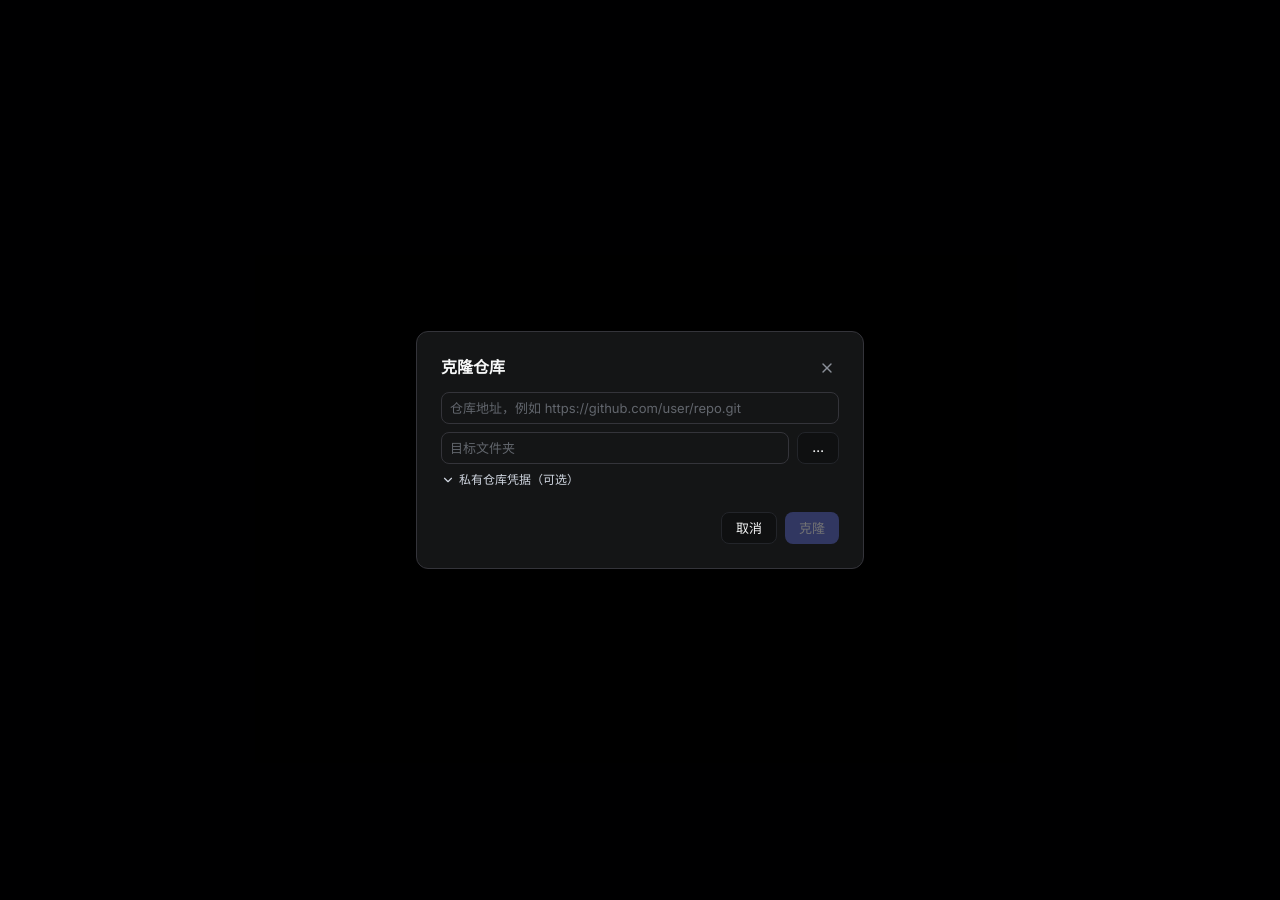
Test case: CloneDialog failure surfacing (rc.2 真人反馈) › shows the failure reason inline in the dialog, not just 克隆失败
Type "http://example.com/demo.git" into the field with test id "clone-url-input" at [640, 408], box left=441, top=392, right=839, bottom=424
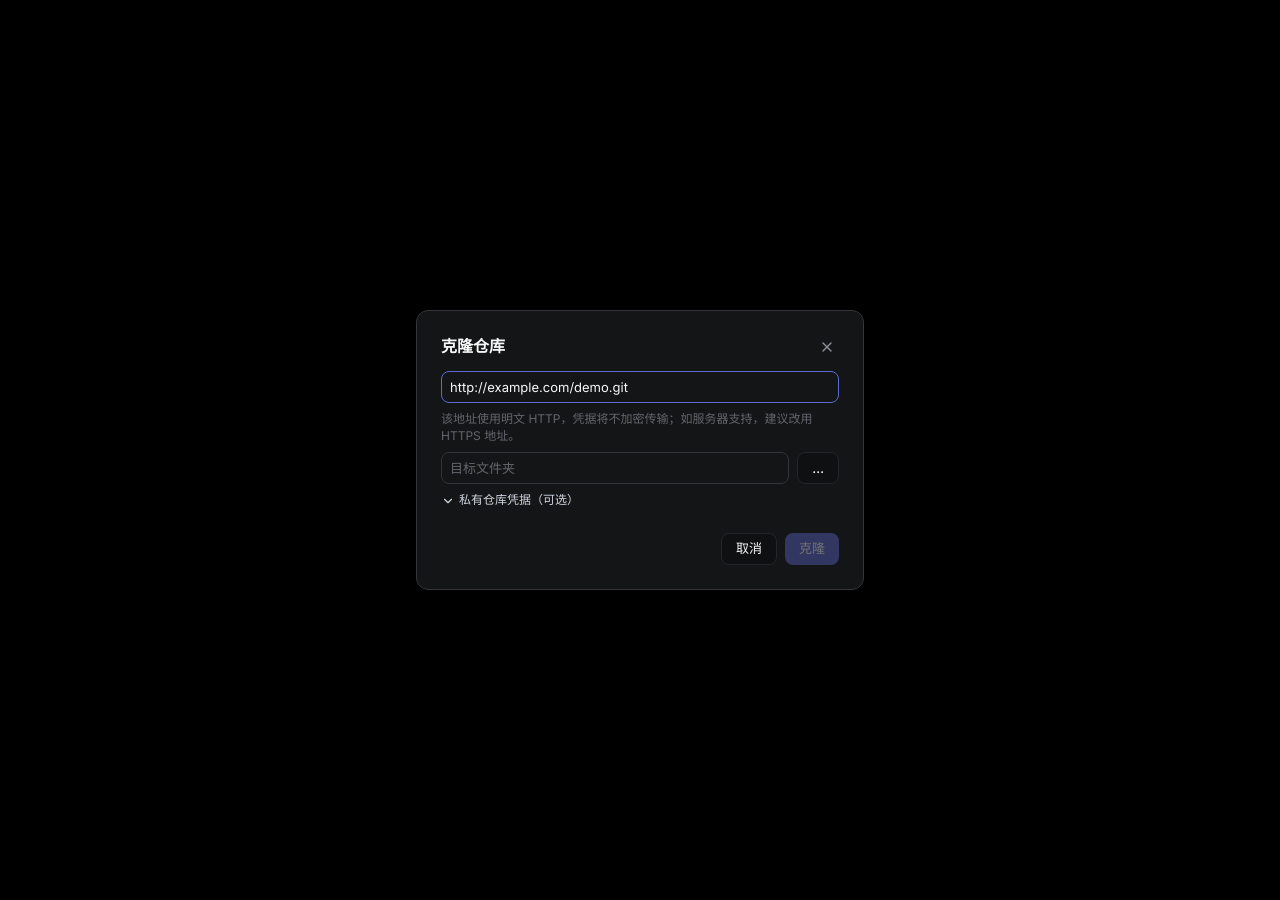
Type "C:/tmp/demo" into the field with test id "clone-path-input" at [615, 468], box left=441, top=452, right=789, bottom=484
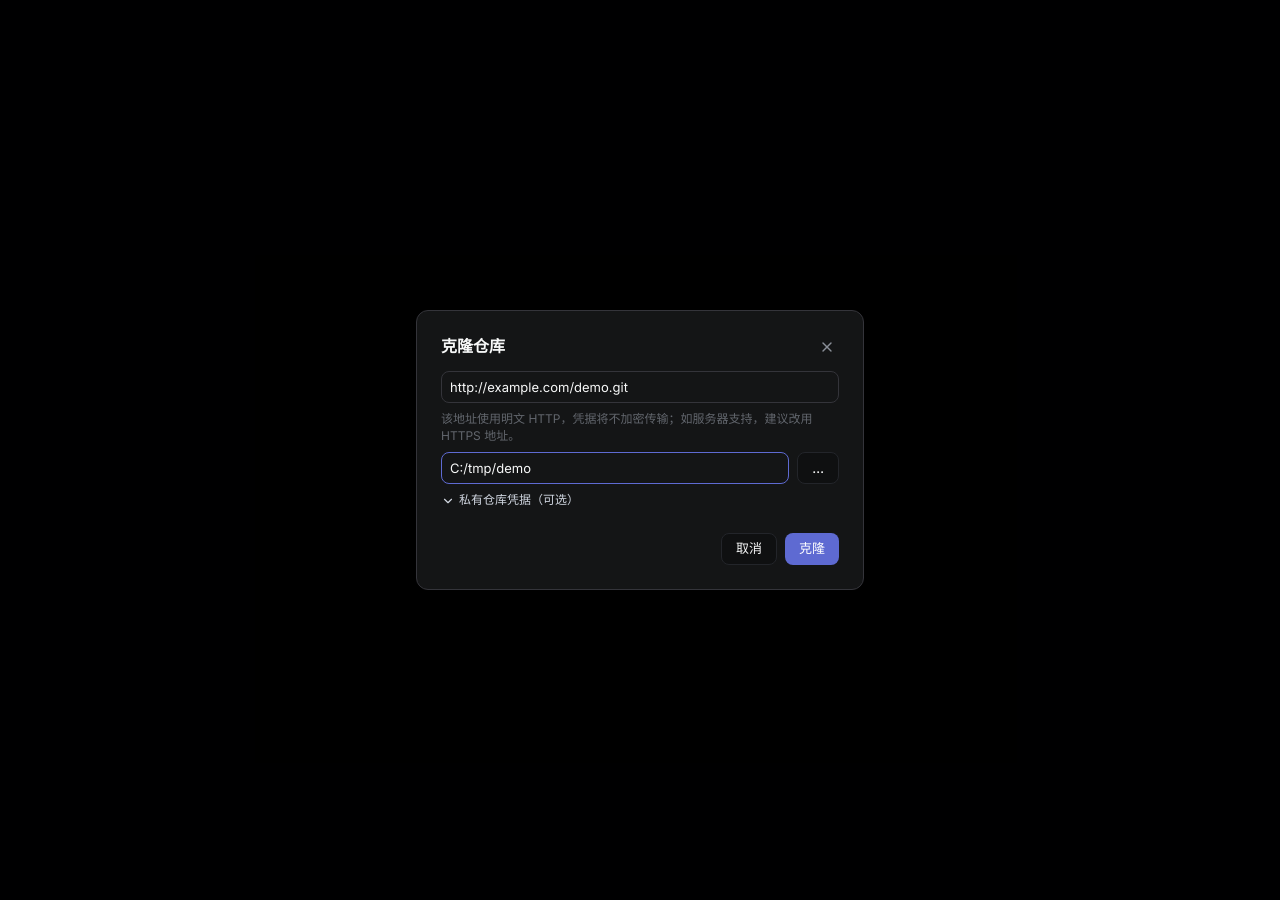
Click the button with test id "clone-confirm" at [812, 549], box left=785, top=533, right=839, bottom=565
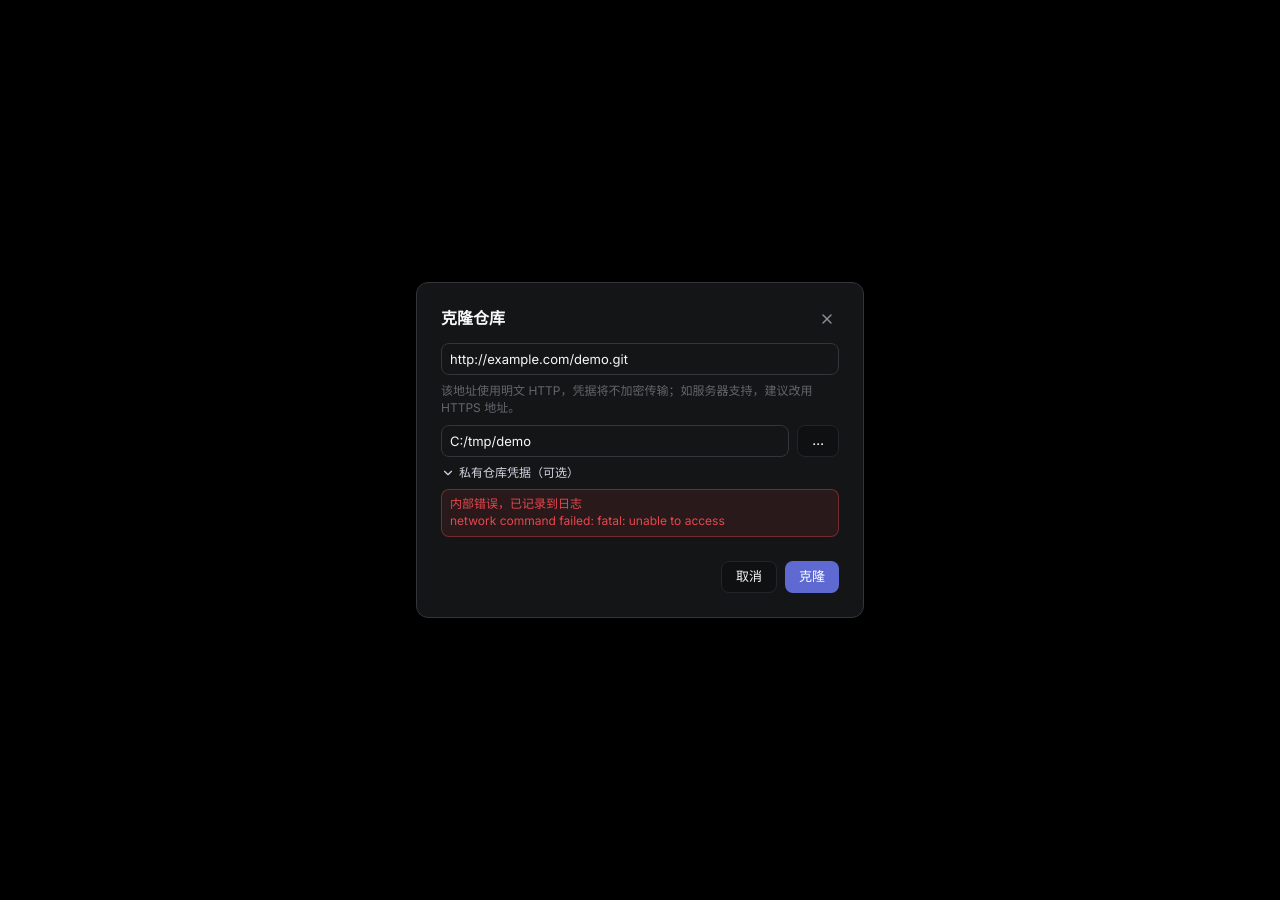
Expected: the message with test id "clone-error" does not show "克隆失败", left=441, top=489, right=839, bottom=537
Expected: the message with test id "clone-error" shows "fatal: unable to access", left=450, top=496, right=725, bottom=528
